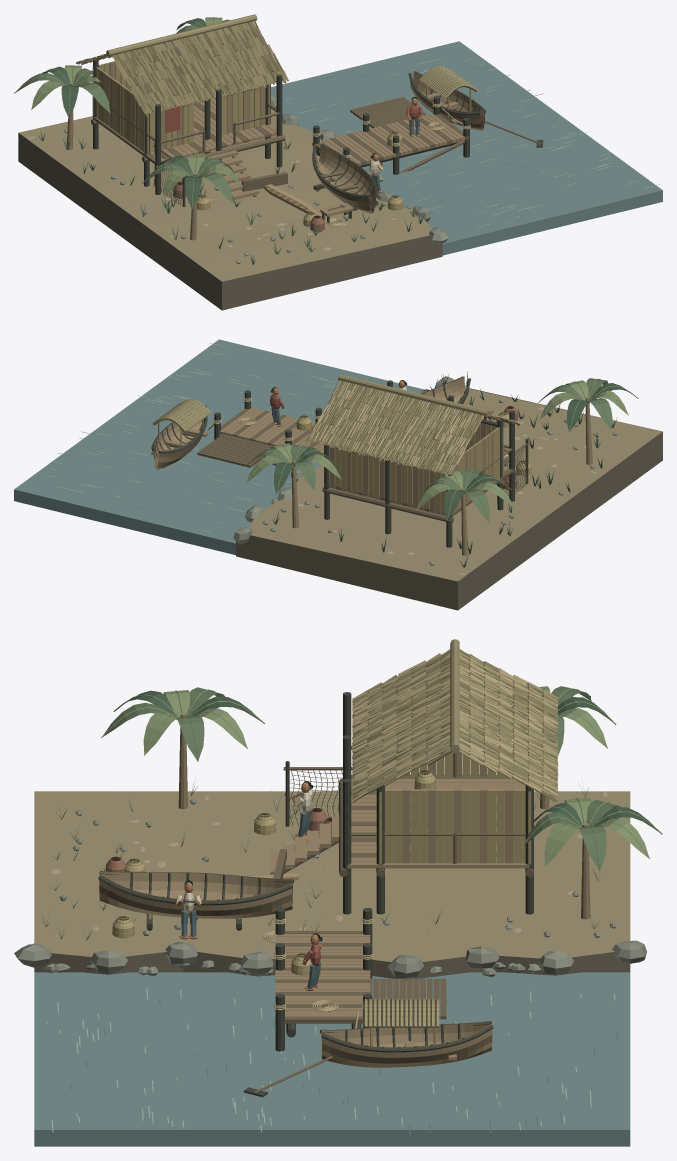
File: ben-vac.glb
The picture shows the model from 3 angles, top to bottom: view 1: azimuth 30°, elevation 25°; view 2: azimuth 150°, elevation 25°; view 3: azimuth 270°, elevation 25°; orthographic projection. The views are drawn at different scales.
Parts seen in each view (by area): view 1: BenVac_water, BenVac_earth, BenVac_earth_side, BenVac_wood_light, BenVac_thatch_dark, BenVac_wood, BenVac_wood_dark, BenVac_thatch, BenVac_bamboo, BenVac_thatch_light, BenVac_leaf, BenVac_leaf_dark (+6 smaller); view 2: BenVac_water, BenVac_earth, BenVac_earth_side, BenVac_wood_light, BenVac_thatch_dark, BenVac_thatch, BenVac_bamboo, BenVac_wood, BenVac_wood_dark, BenVac_leaf_light, BenVac_thatch_light, BenVac_leaf (+4 smaller); view 3: BenVac_water, BenVac_earth, BenVac_wood_light, BenVac_thatch, BenVac_thatch_dark, BenVac_bamboo, BenVac_wood, BenVac_wood_dark, BenVac_thatch_light, BenVac_stone, BenVac_leaf_light, BenVac_earth_side (+7 smaller).
Boxes of the visible parts, box(x1,y1,x2,y2) form: BenVac_water: box(271, 41, 662, 255); BenVac_earth: box(19, 105, 431, 281); BenVac_earth_side: box(18, 116, 442, 310); BenVac_wood_light: box(67, 61, 485, 240); BenVac_thatch_dark: box(85, 20, 400, 216); BenVac_wood: box(91, 85, 541, 213); BenVac_wood_dark: box(93, 60, 543, 223); BenVac_thatch: box(76, 14, 477, 116); BenVac_bamboo: box(96, 61, 471, 227); BenVac_thatch_light: box(78, 21, 288, 113); BenVac_leaf: box(15, 19, 424, 264); BenVac_leaf_dark: box(38, 18, 424, 264); BenVac_water: box(14, 339, 424, 554); BenVac_earth: box(249, 388, 662, 581); BenVac_earth_side: box(236, 387, 662, 610); BenVac_wood_light: box(151, 376, 592, 555); BenVac_thatch_dark: box(299, 381, 528, 474); BenVac_thatch: box(152, 374, 519, 475); BenVac_bamboo: box(158, 389, 531, 513); BenVac_wood: box(154, 391, 529, 523); BenVac_wood_dark: box(151, 376, 528, 547); BenVac_leaf_light: box(246, 378, 638, 522); BenVac_thatch_light: box(309, 381, 518, 475); BenVac_leaf: box(249, 374, 614, 565); BenVac_water: box(34, 972, 630, 1146); BenVac_earth: box(34, 791, 630, 962); BenVac_wood_light: box(99, 713, 590, 1062); BenVac_thatch: box(352, 639, 558, 1027); BenVac_thatch_dark: box(116, 650, 558, 960); BenVac_bamboo: box(112, 752, 531, 1046); BenVac_wood: box(99, 745, 533, 1092); BenVac_wood_dark: box(98, 692, 533, 1097); BenVac_thatch_light: box(352, 649, 558, 802); BenVac_stone: box(14, 796, 646, 978); BenVac_leaf_light: box(101, 686, 662, 871); BenVac_earth_side: box(34, 952, 630, 980).
Bounding box in the file's own units: 21.45 × 6.39 × 17.42.
